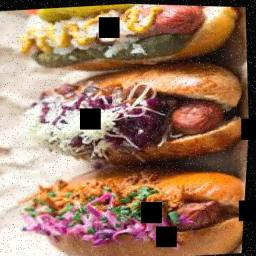hotdog: (13, 56, 253, 176), (16, 152, 249, 256), (4, 0, 244, 81)
